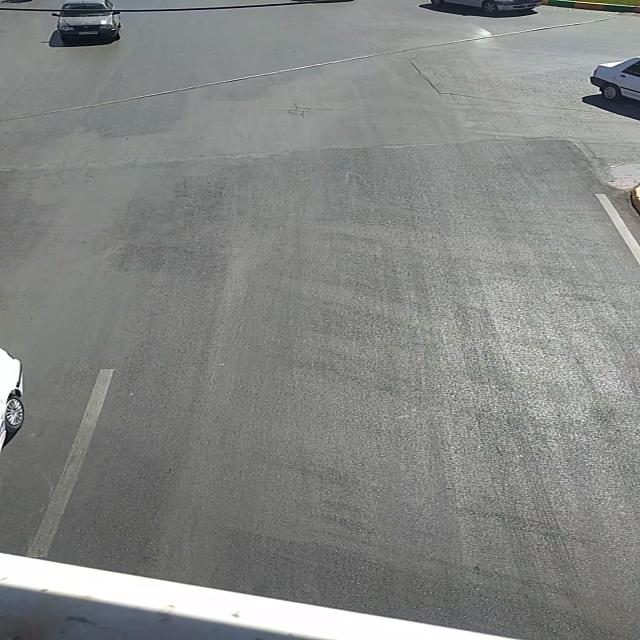car: (53, 1, 124, 41), (591, 54, 639, 104)
